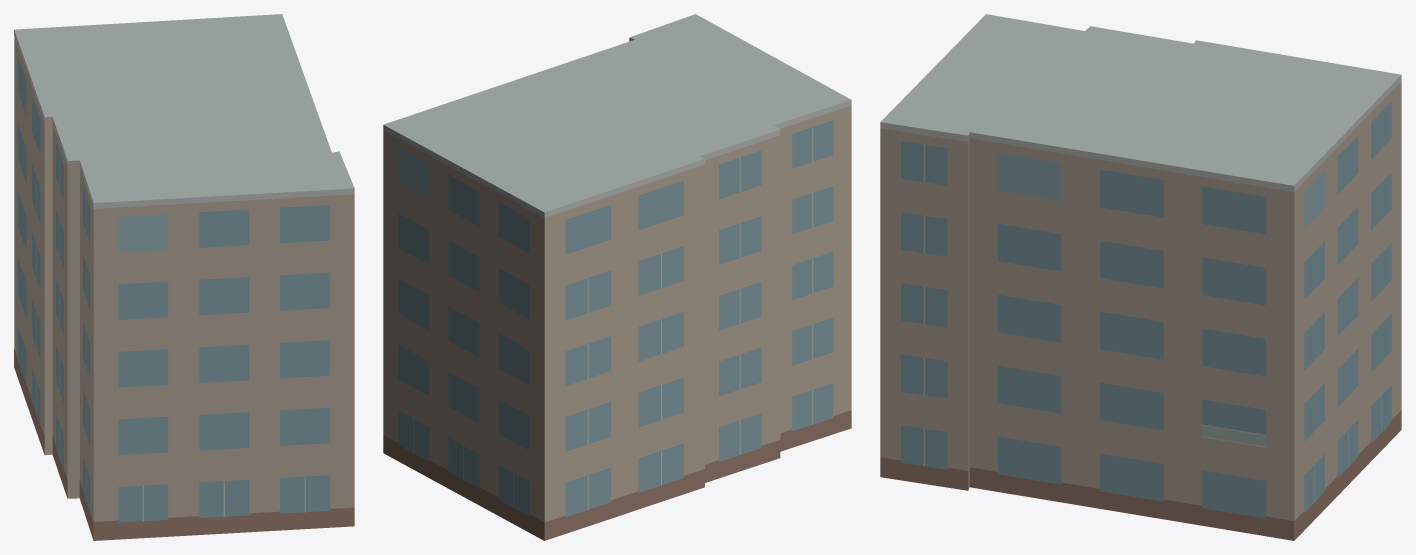
The model's file is survey-upis-32876441.glb.
3 views of the same model, side by side, from view 1: azimuth 30°, elevation 25°; view 2: azimuth 150°, elevation 25°; view 3: azimuth 270°, elevation 25° (orthographic). The views are drawn at different scales.
Visible parts, largest first — view 1: survey-upis-32876441.tmp; view 2: survey-upis-32876441.tmp; view 3: survey-upis-32876441.tmp.
Boxes of the visible parts, x1,y1,x2,y2 form: survey-upis-32876441.tmp: (14, 14, 354, 540); survey-upis-32876441.tmp: (383, 14, 851, 540); survey-upis-32876441.tmp: (880, 14, 1401, 540).
Bounding box in the file's own units: 14.65 × 14.1 × 18.78.
